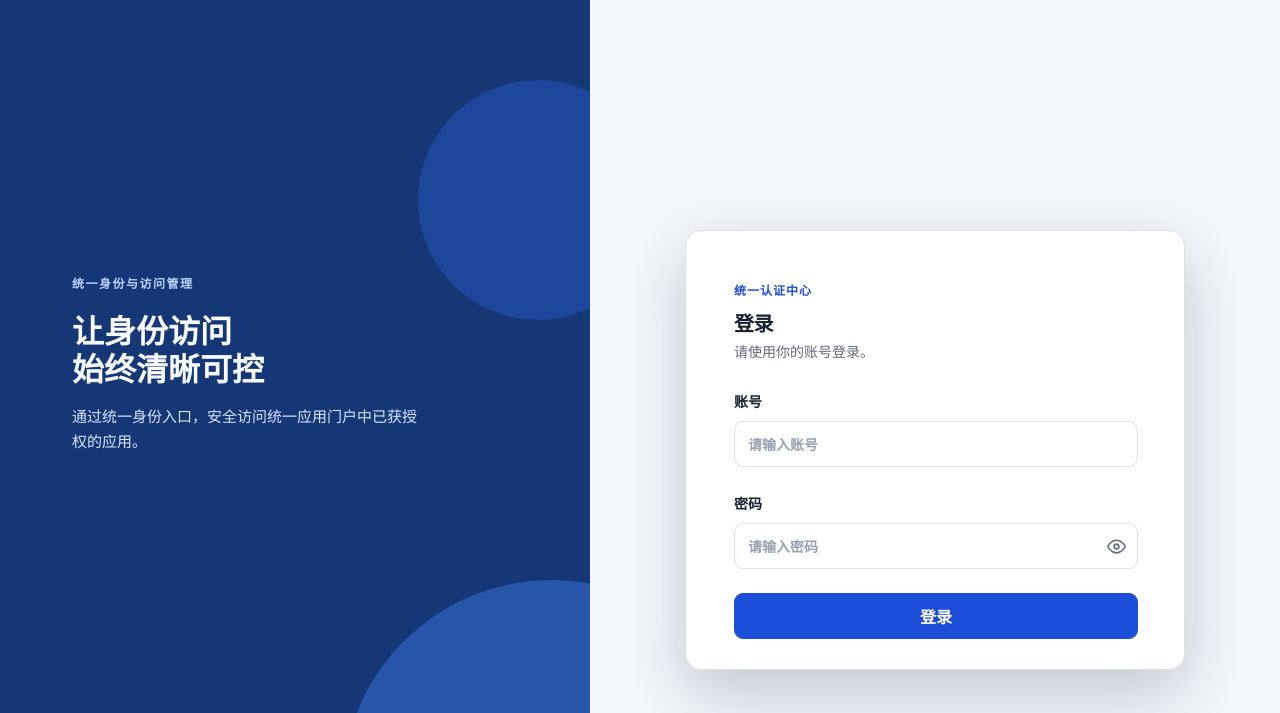
Test: LoginView › 登录被要求人机验证时应动态展示验证码区块并自动取题
The width and height of the screenshot is (1280, 713).
Type "admin" into the field labelled "账号".
click(936, 444); type("admin")  # box top-left (734, 421), bottom-right (1138, 467)
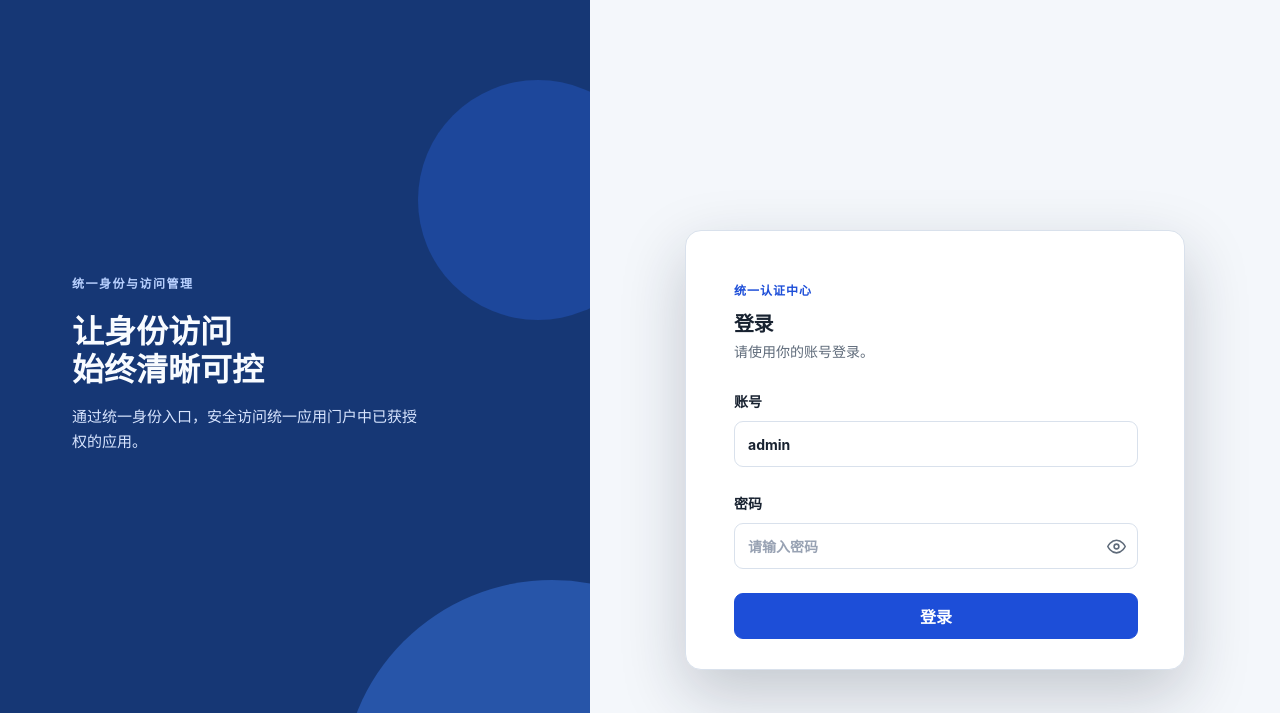
Type "Wrong@0000" into the password field labelled "密码".
click(936, 546); type("Wrong@0000")  # box top-left (734, 523), bottom-right (1138, 569)
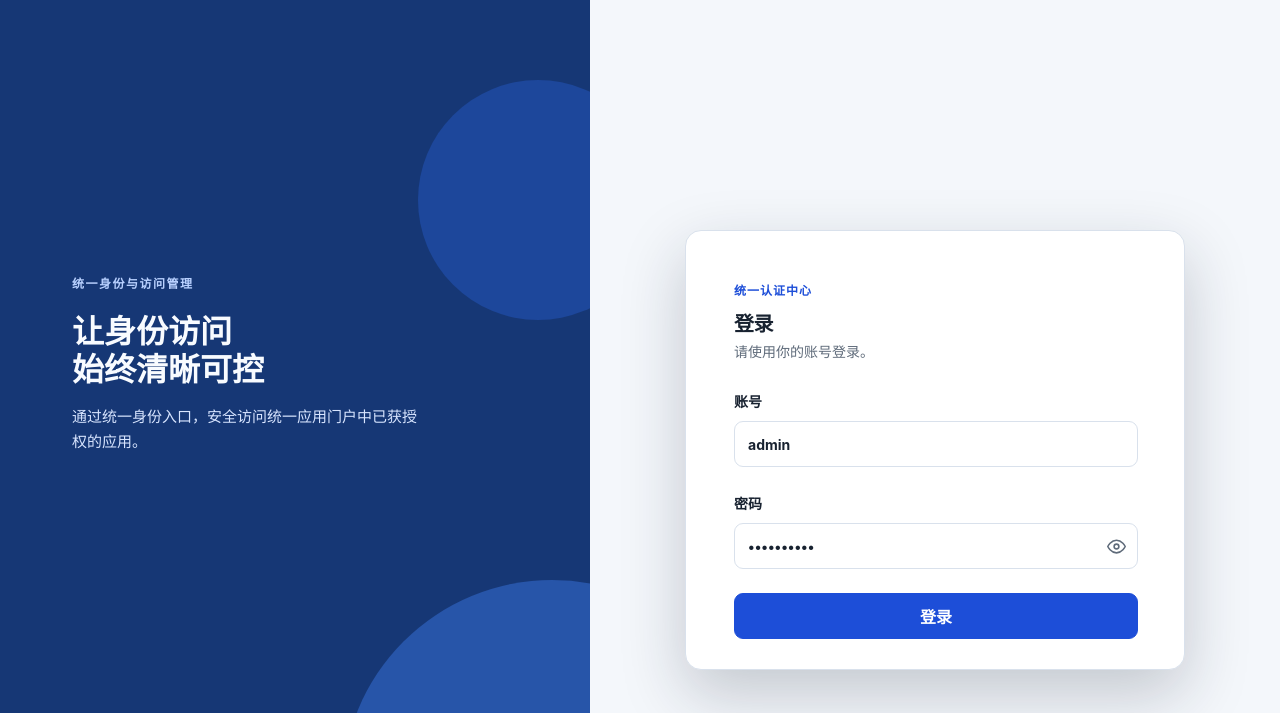
Submit the form, box top-left (734, 393), bottom-right (1138, 639)
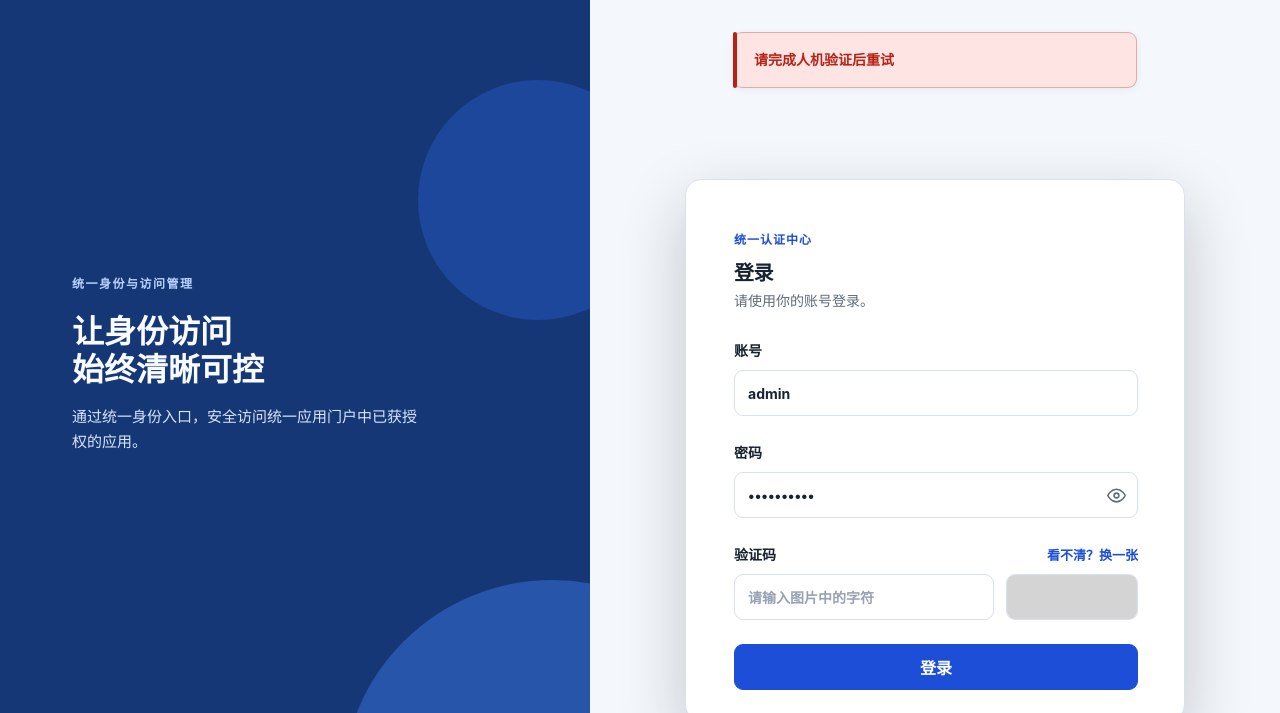
Now the element with class "login-captcha" is shown, box top-left (734, 546), bottom-right (1138, 620)
Now the message "请完成人机验证后重试" is shown, box top-left (733, 32), bottom-right (1137, 88)
Now the button with class "login-captcha-refresh" reads "看不清？换一张", box top-left (1047, 546), bottom-right (1138, 564)
